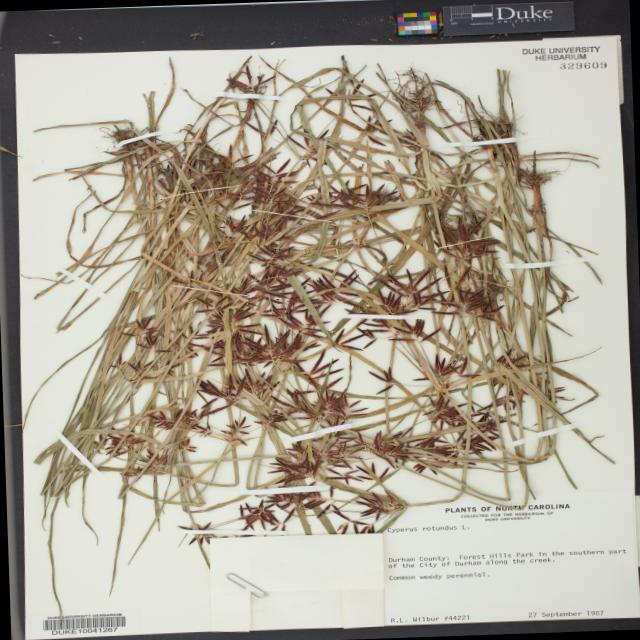cyperus: (96, 334, 444, 534), (122, 103, 404, 344), (383, 81, 570, 371)
